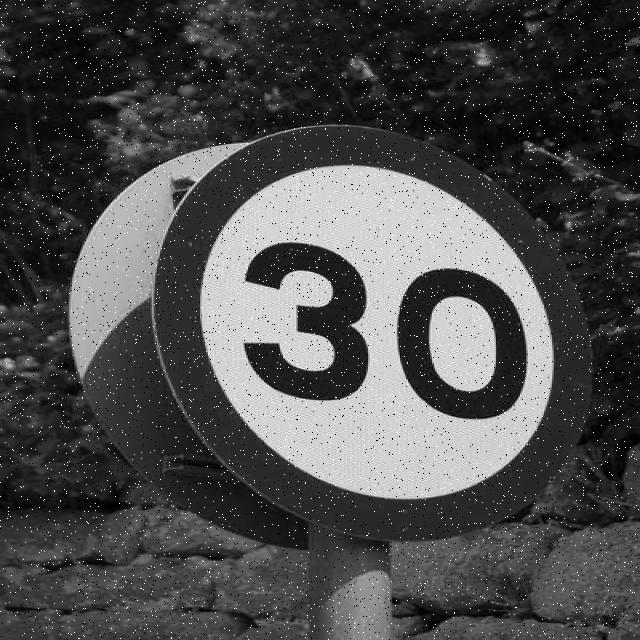speedlimit_30: (100, 118, 603, 544)
